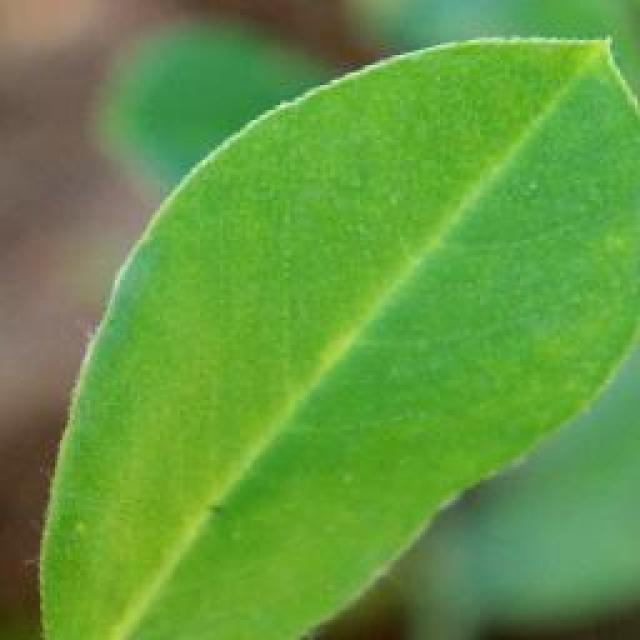Yellow_and_black_sigatoka: (48, 25, 638, 640)
